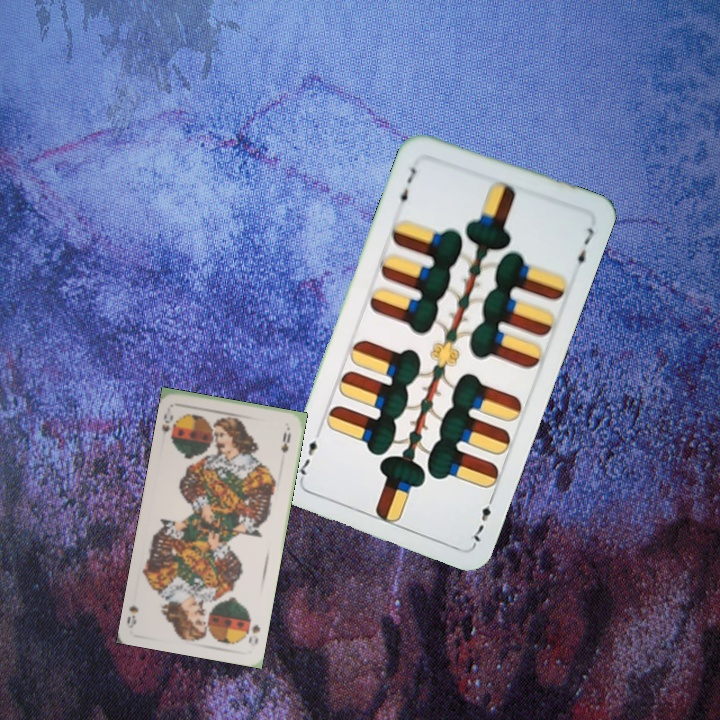E7: (469, 490, 498, 547), (393, 163, 419, 209)
SO: (157, 409, 179, 445), (244, 621, 262, 647)
